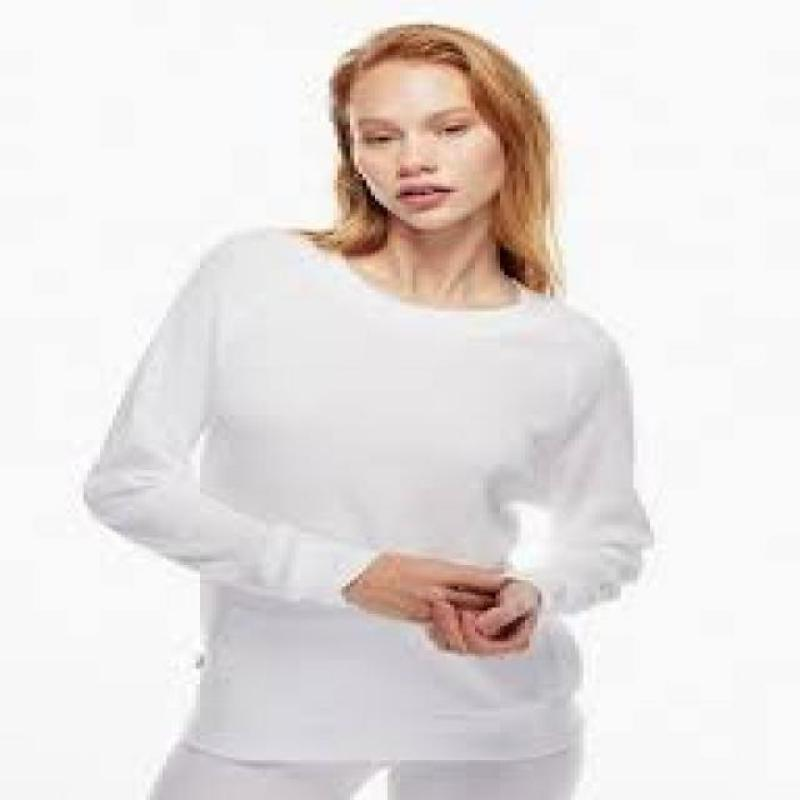long sleeve shirt: (84, 226, 659, 762)
trousers: (146, 723, 590, 800)
